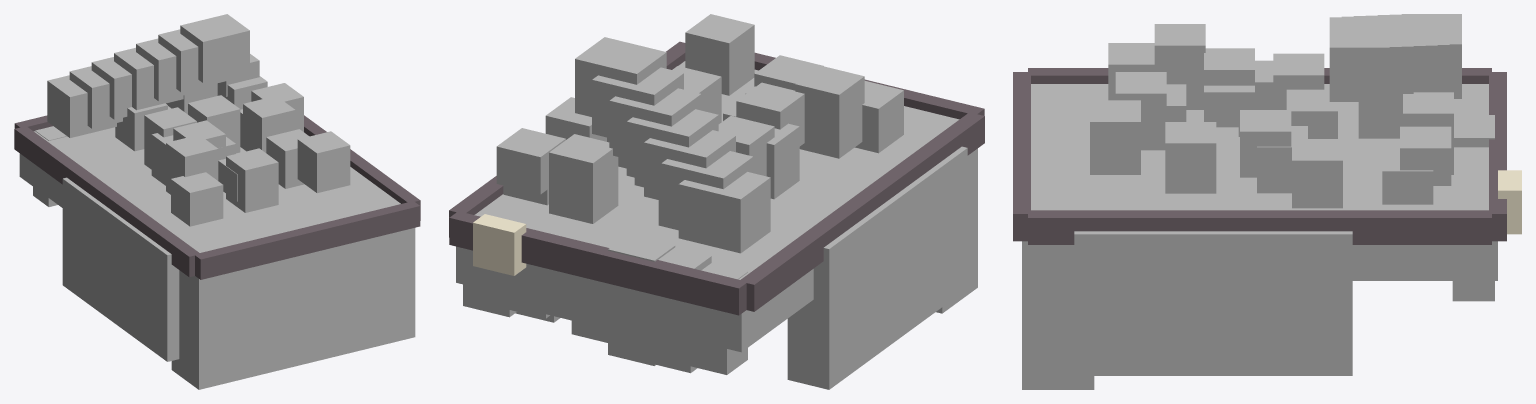
The model's file is cabelo_rosa_topete.glb.
The picture shows the model from 3 angles, left to right: view 1: azimuth 30°, elevation 25°; view 2: azimuth 150°, elevation 25°; view 3: azimuth 270°, elevation 25°; orthographic projection. The views are drawn at different scales.
Visible parts, largest first — view 1: cabelo_rosa_topete; view 2: cabelo_rosa_topete; view 3: cabelo_rosa_topete.
Part boxes in pixels (x1,y1,x2,y2): cabelo_rosa_topete: (14, 14, 420, 389); cabelo_rosa_topete: (449, 14, 984, 389); cabelo_rosa_topete: (1013, 14, 1521, 389).
Bounding box in the file's own units: 0.612 × 0.57 × 0.847.
